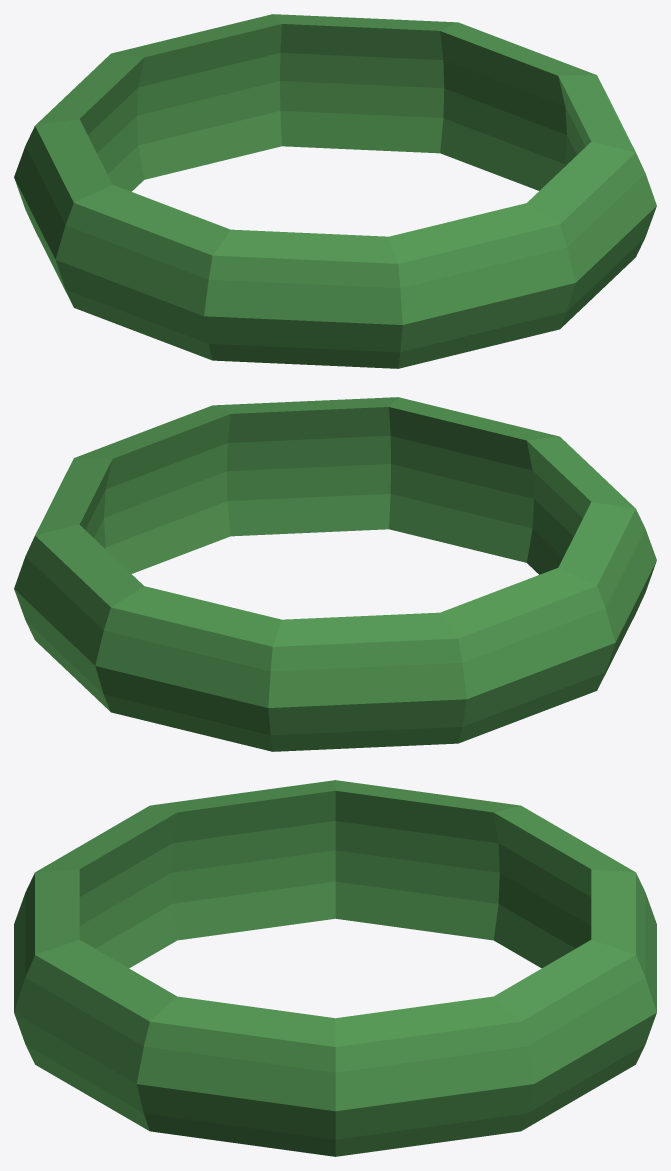
The model's file is Bracelet_02.fbx.
The picture shows the model from 3 angles, top to bottom: view 1: azimuth 30°, elevation 25°; view 2: azimuth 150°, elevation 25°; view 3: azimuth 270°, elevation 25°; orthographic projection. The views are drawn at different scales.
Parts seen in each view (by area): view 1: Bracelet_02; view 2: Bracelet_02; view 3: Bracelet_02.
Boxes of the visible parts, <box> form: Bracelet_02: <box>14,14,656,368</box>; Bracelet_02: <box>14,397,656,751</box>; Bracelet_02: <box>14,780,656,1156</box>.
Size of the model in its own units: 3.2 by 0.6689 by 3.05.
